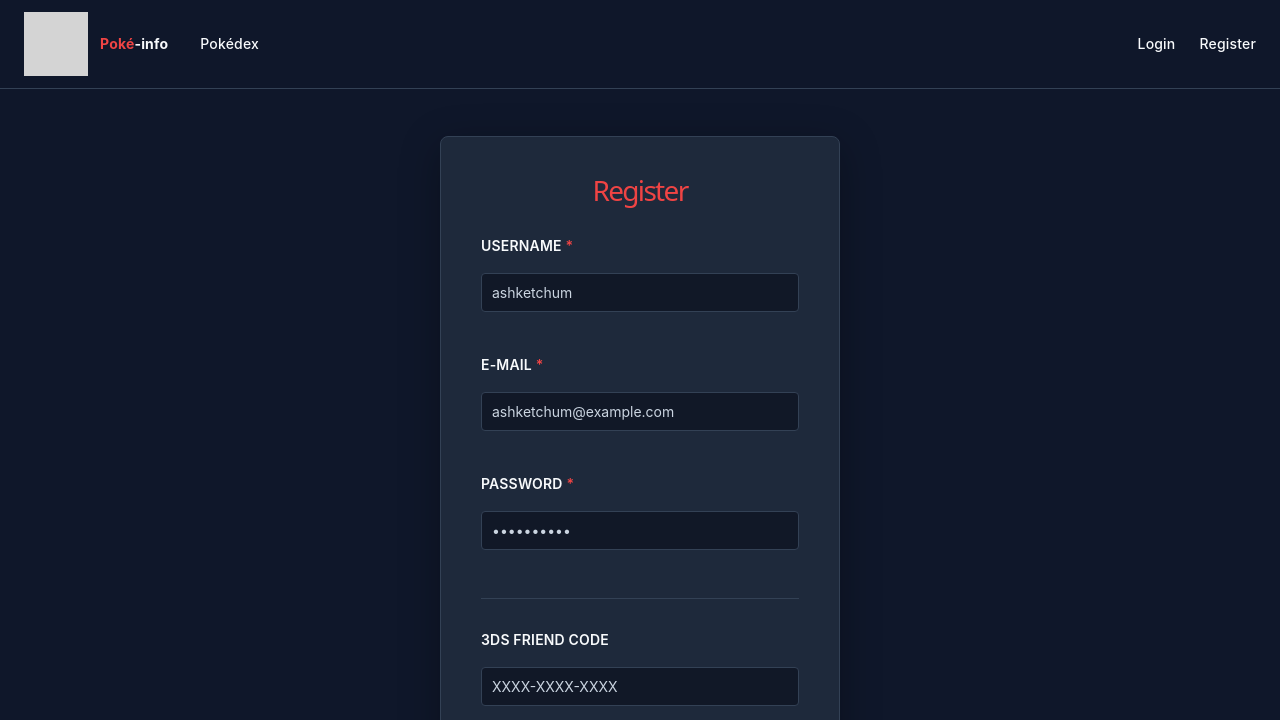
Test case: Registration - Unhappy Path › should show error when email is empty
In the field with test id "register-username": point(640, 293) [481, 273, 799, 312], type "testuser"
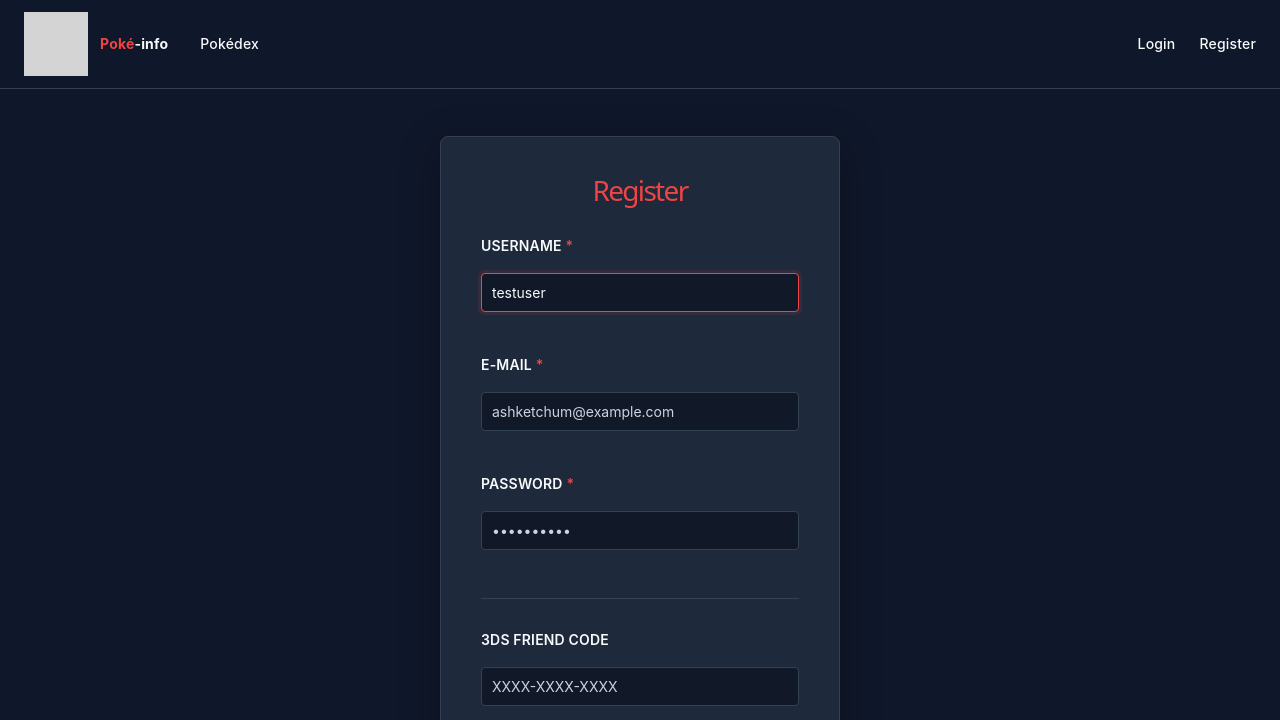
In the password field with test id "register-password": point(640, 531) [481, 511, 799, 550], type "Password123!"
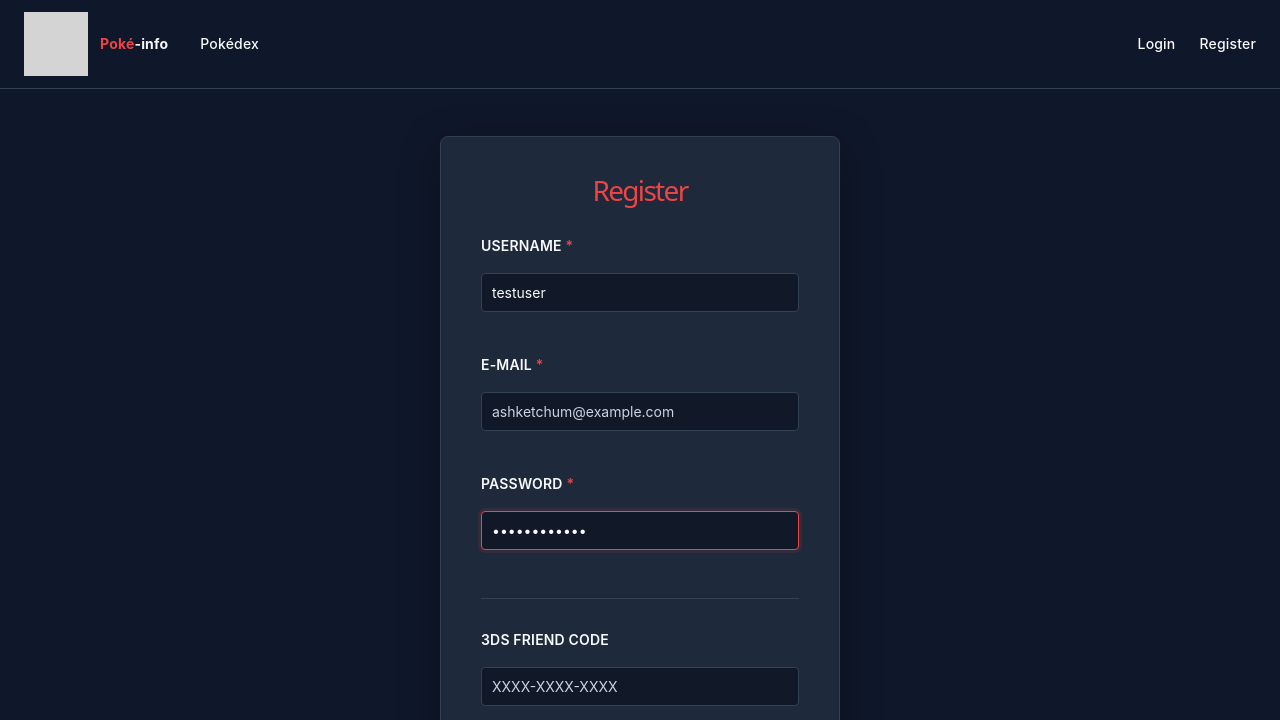
Scroll
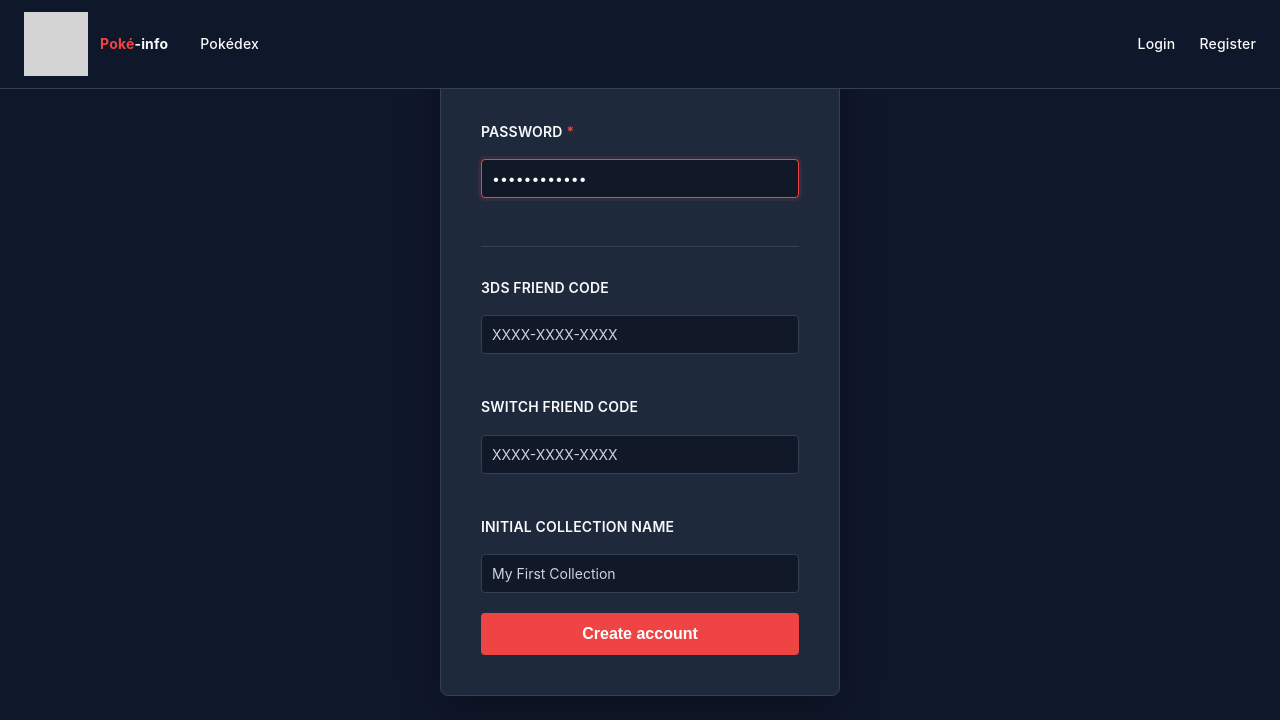
Click the button with test id "register-submit": point(640, 634) [481, 613, 799, 655]
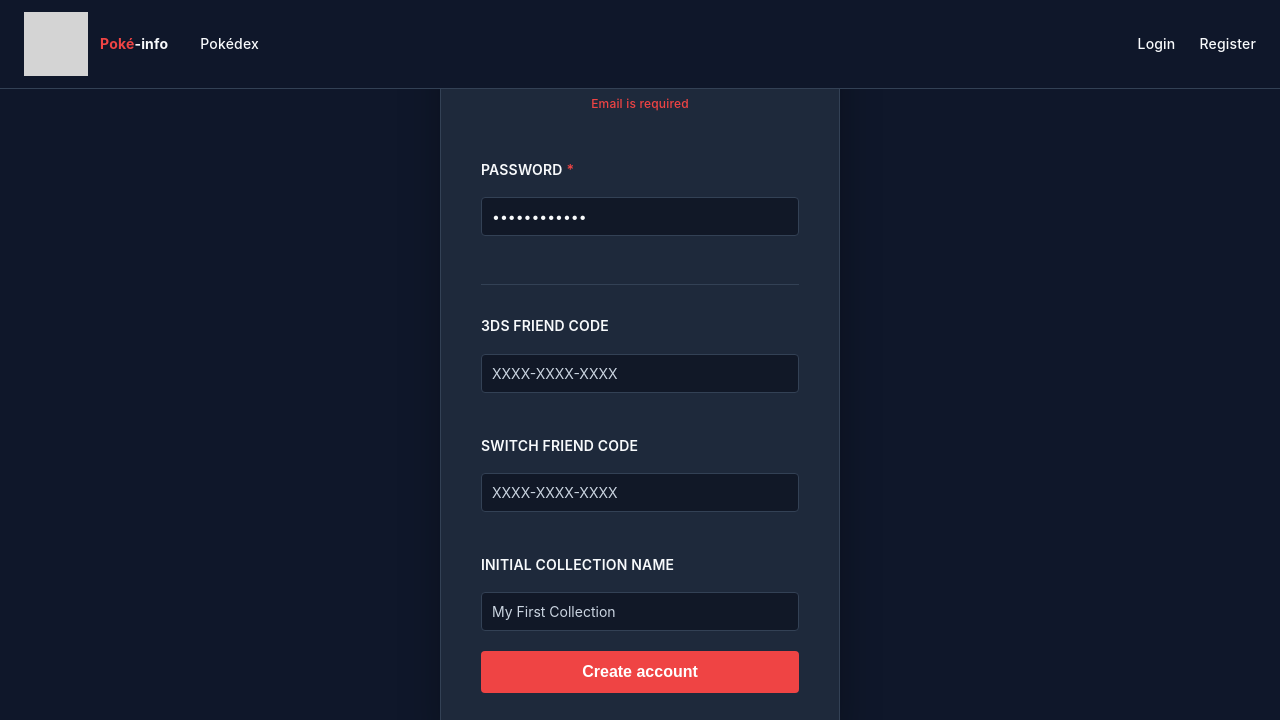
Expected: the text "Email is required" is shown, [591, 96, 689, 111]
